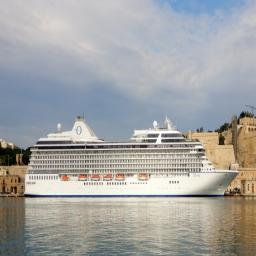cruises: (23, 109, 241, 203)
